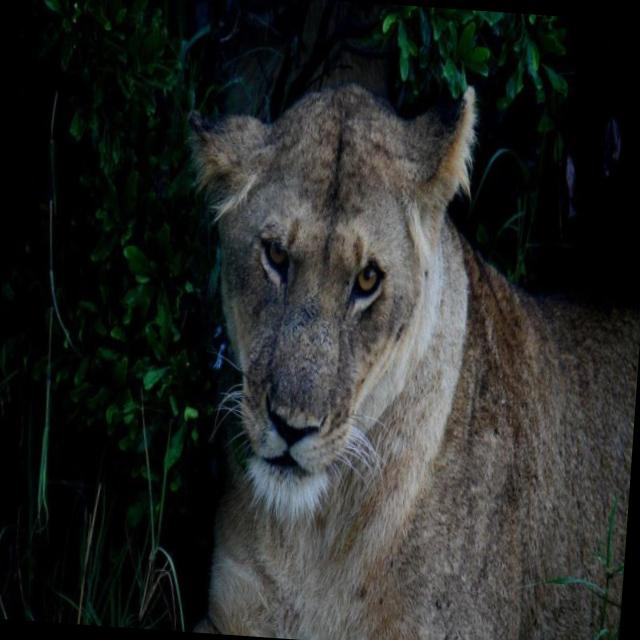lion: (117, 49, 550, 548)
